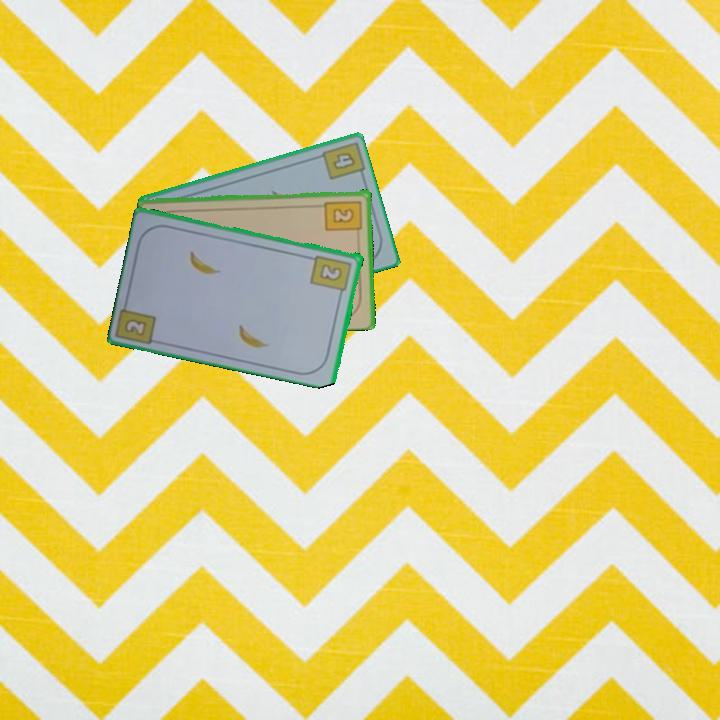2b: (308, 251, 355, 299), (322, 197, 365, 239), (121, 315, 150, 339)
4b: (330, 148, 358, 172)
